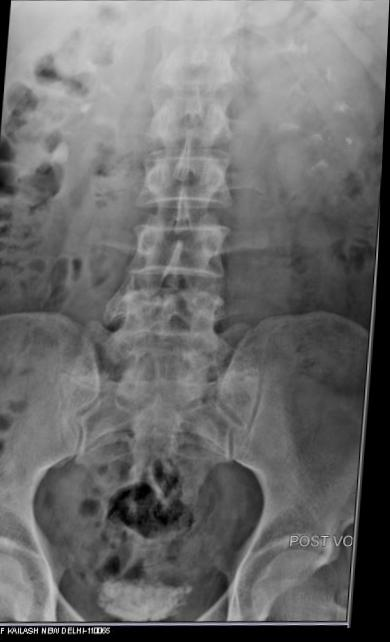vertebrae: (145, 84, 243, 153)
